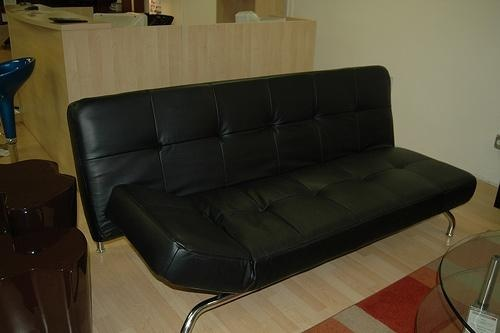sofa: (80, 67, 480, 326)
